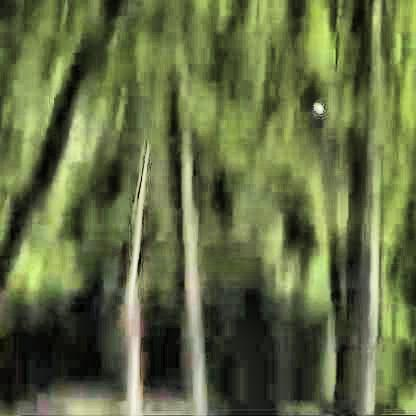golfball: (308, 97, 319, 113)
